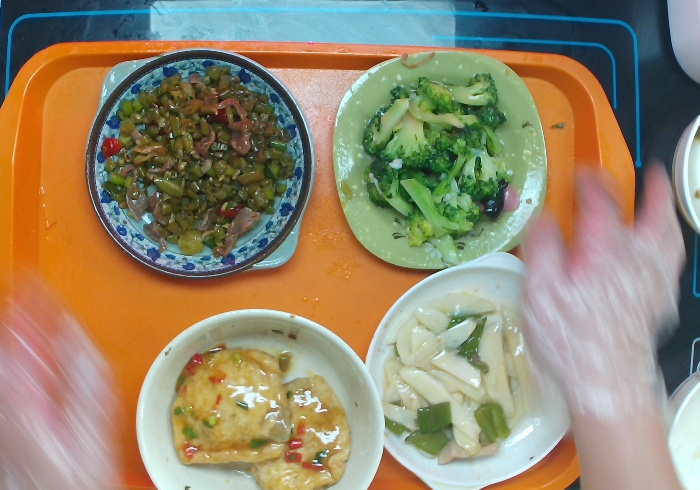NLDX-Bai_Se_Shuang_Er_Die: (364, 250, 573, 490)
NLDX-Bai_Se_Yuan_Wan: (134, 306, 388, 490)
NLDX-Lv_Hua_Fang_Die: (330, 48, 550, 269)
NLDX-Qing_Hua_Shuang_Er_Die: (81, 45, 317, 281)
